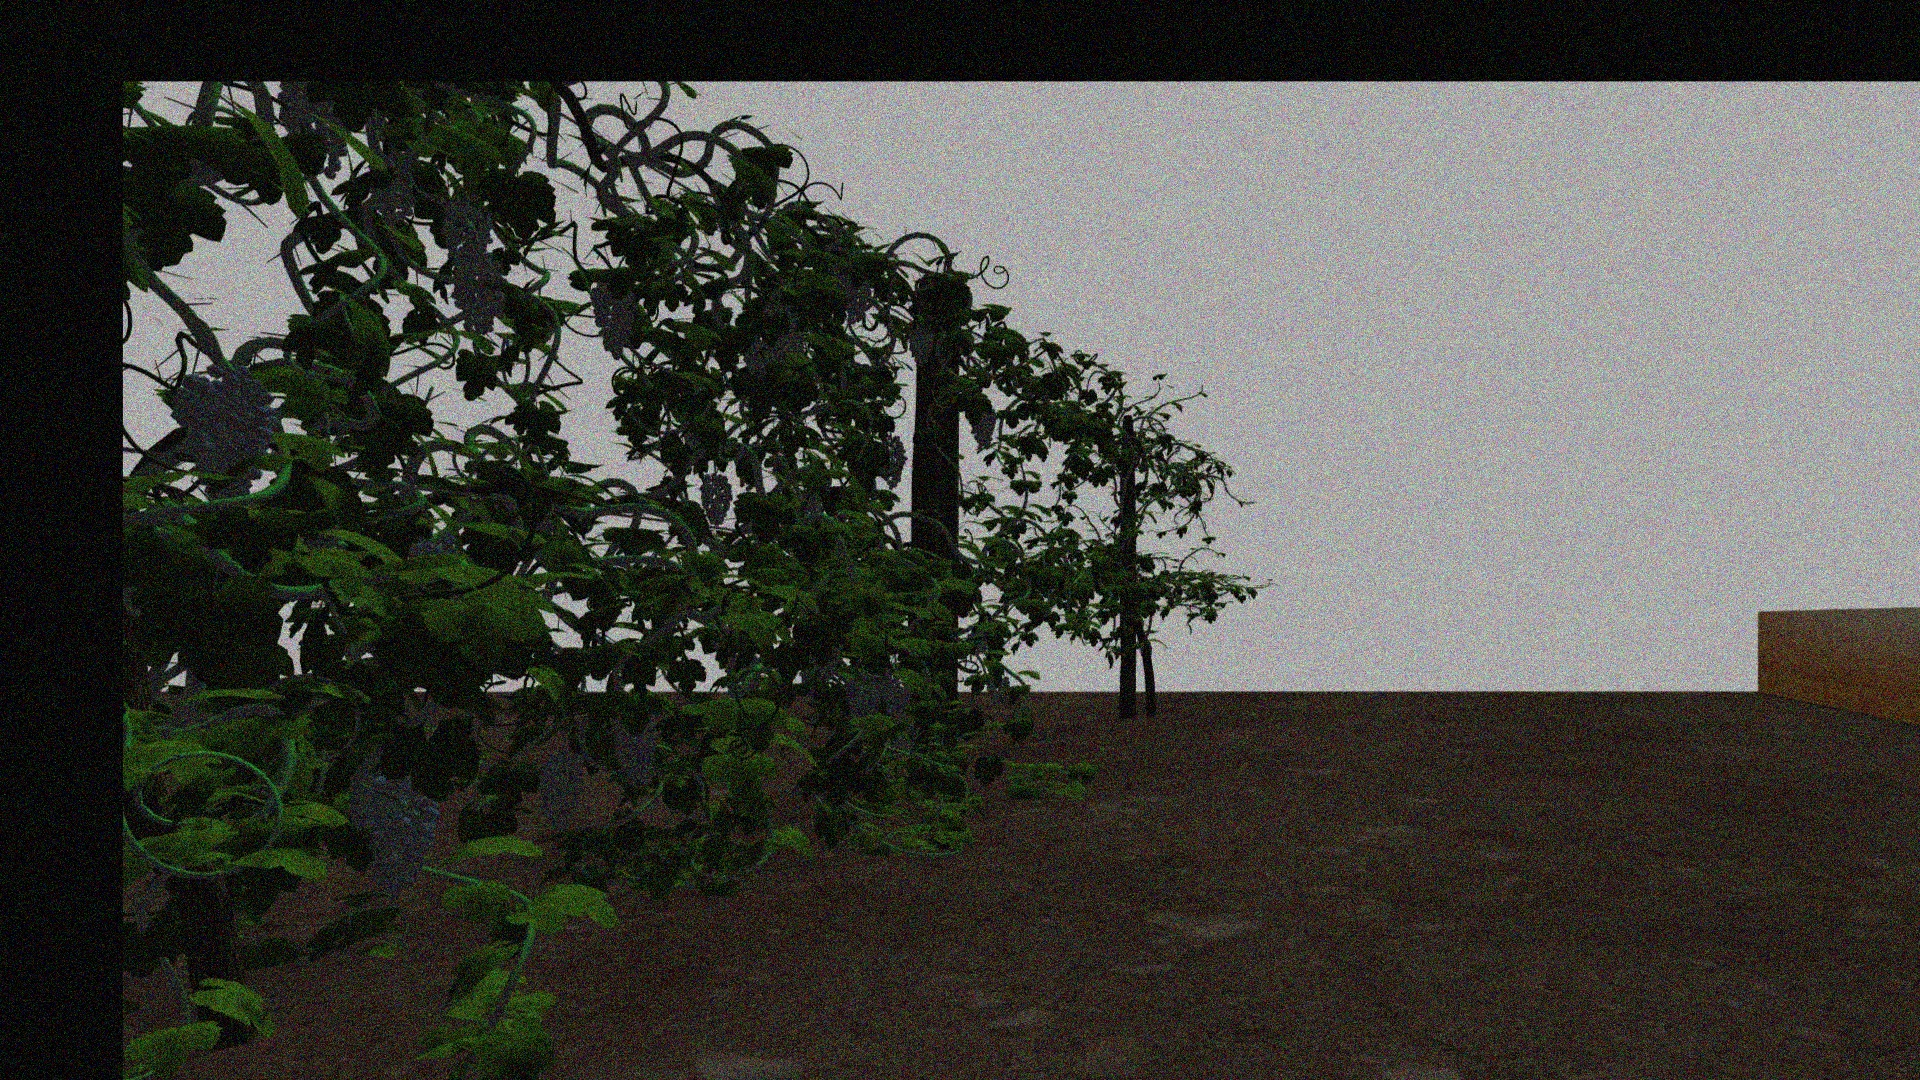grape: (170, 365, 276, 483), (351, 775, 440, 901), (451, 251, 506, 338), (588, 278, 640, 357), (537, 752, 588, 829), (611, 717, 658, 787), (440, 196, 492, 255), (833, 265, 872, 324), (761, 303, 799, 363), (878, 669, 914, 723), (698, 472, 731, 527), (847, 676, 881, 723), (878, 436, 907, 491), (969, 407, 996, 448), (909, 324, 932, 367), (742, 340, 767, 378), (985, 675, 1011, 705)
